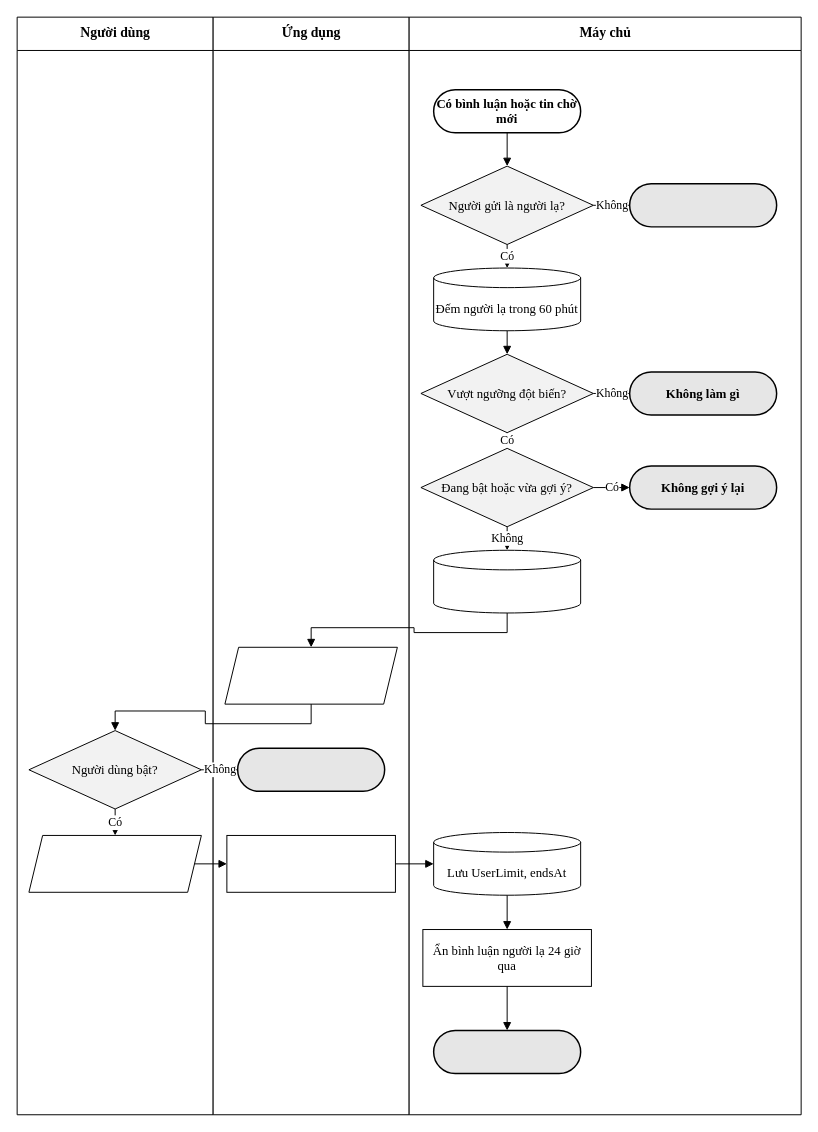
This 818x1132 diagram has some shape labels left out. The shapes that lost their labels are listed below. From the top down, each one's centre as x and y in pixels, then its label:
At pixel 702 205: "Không đếm".
At pixel 507 581: "Ghi limitsSuggestedAt, đẩy thông báo".
At pixel 310 675: "Thẻ: Bật Giới hạn?".
At pixel 310 769: "Đóng thẻ, không đổi gì".
At pixel 114 863: "Chọn nhóm, nội dung, số ngày".
At pixel 310 863: "Gửi cài đặt Giới hạn".
At pixel 506 1051: "Hết hạn: tự tắt, báo trước".
